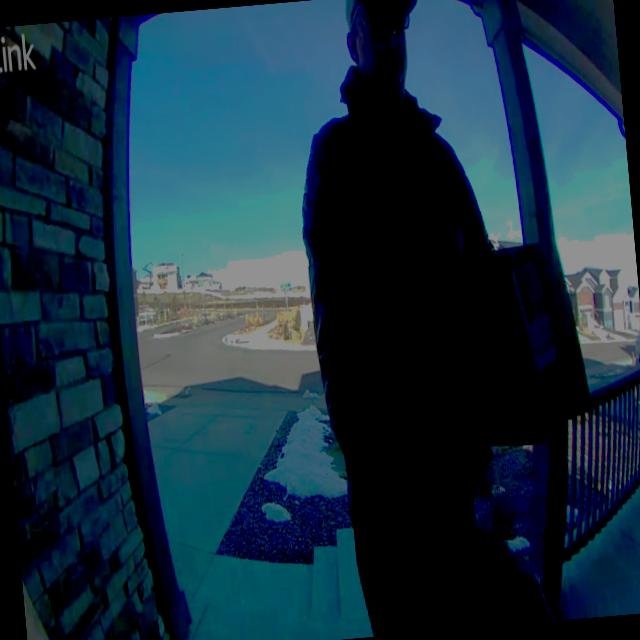Box: (484, 233, 592, 423)
